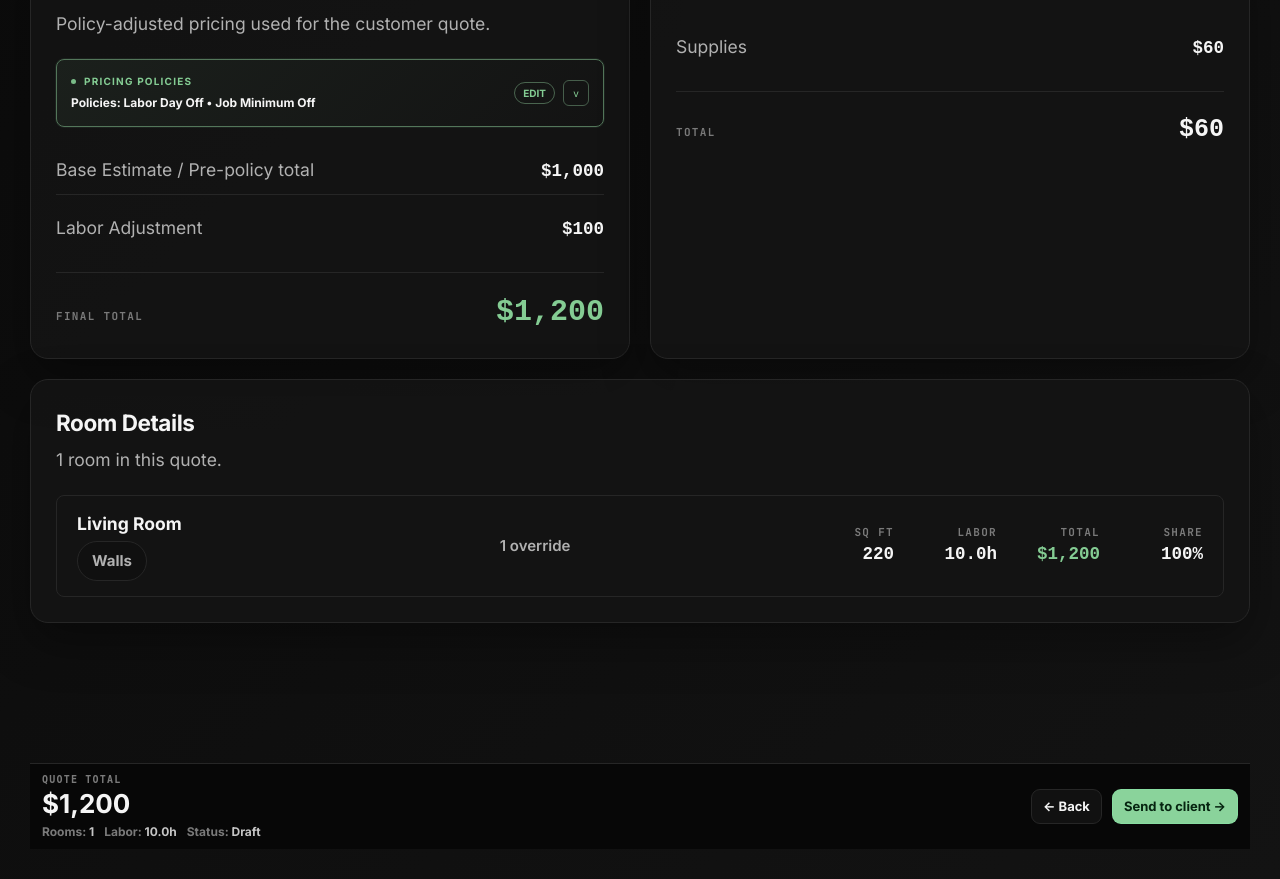
Test case: EstimateV2SummaryPageContent › shows raw scope override details in expanded room rows
(page scrolled)
Click the button with aria-label "living room room details".
click(129, 524)  # box [57,496,1223,596]
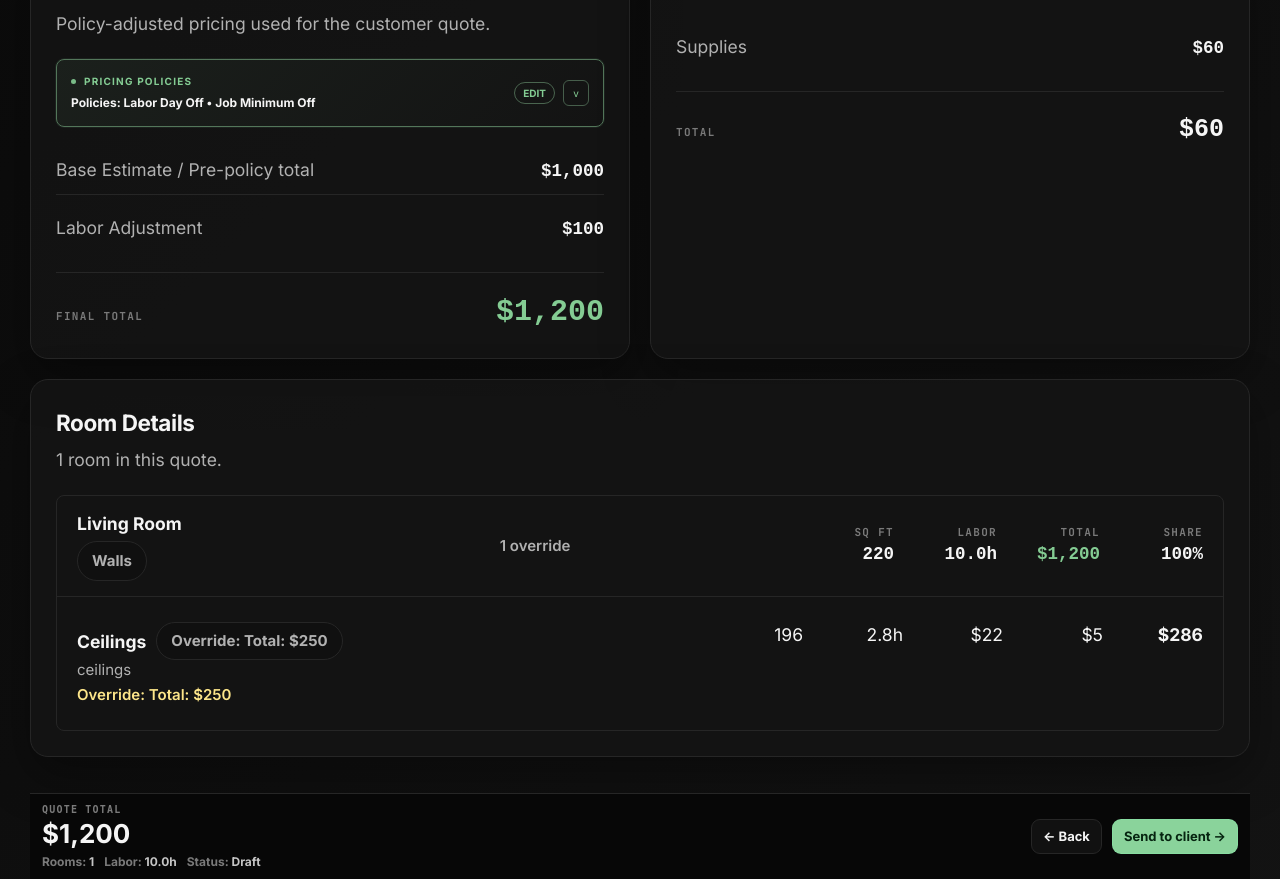
Expected: the 1st text "Override: Total: $250" is shown, [171,630,328,652]
Expected: the text "$286" is shown, [1158,624,1203,645]
